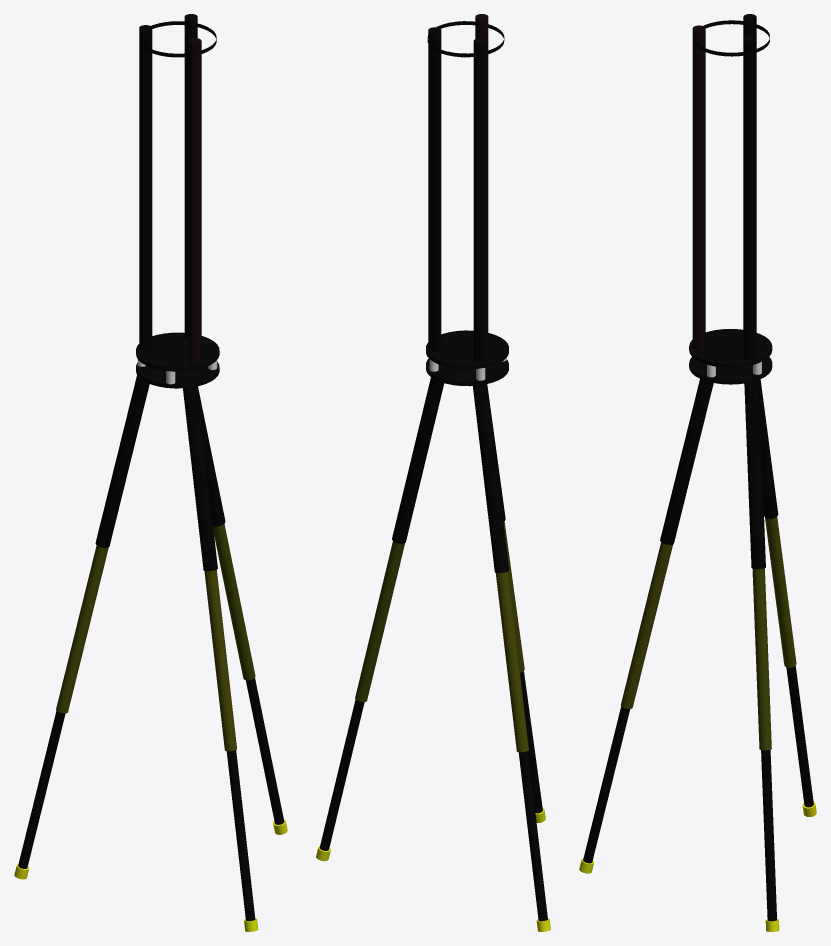
Rendered from rod.fbx.
The picture shows the model from 3 angles, left to right: view 1: azimuth 30°, elevation 25°; view 2: azimuth 150°, elevation 25°; view 3: azimuth 270°, elevation 25°; orthographic projection.
Visible parts, largest first — view 1: Cylinder.018, Cylinder.020, Cylinder.002, Cylinder.010, Cylinder.001, Cylinder.009, Cylinder.013, Cylinder.006, Cylinder.019, Cylinder, Cylinder.008, Cylinder.007 (+2 smaller); view 2: Cylinder.020, Cylinder.019, Cylinder.010, Cylinder.005, Cylinder.009, Cylinder.006, Cylinder.013, Cylinder.008, Cylinder.007, Cylinder.012, Cylinder.018, Cylinder (+2 smaller); view 3: Cylinder.018, Cylinder.019, Cylinder.005, Cylinder.002, Cylinder.006, Cylinder.001, Cylinder.013, Cylinder.009, Cylinder.007, Cylinder, Cylinder.008, Cylinder.012 (+2 smaller).
Part boxes in pixels (x1,y1,x2,y2): Cylinder.018: (188, 38, 201, 364); Cylinder.020: (139, 25, 152, 351); Cylinder.002: (183, 386, 217, 571); Cylinder.010: (95, 375, 149, 547); Cylinder.001: (204, 570, 236, 751); Cylinder.009: (56, 545, 108, 713); Cylinder.013: (136, 332, 219, 371); Cylinder.006: (213, 524, 255, 680); Cylinder.019: (184, 14, 197, 339); Cylinder: (226, 750, 255, 920); Cylinder.008: (18, 710, 65, 868); Cylinder.007: (246, 678, 284, 824); Cylinder.020: (473, 38, 486, 363); Cylinder.019: (428, 27, 441, 352); Cylinder.010: (473, 384, 508, 572); Cylinder.005: (392, 377, 444, 543); Cylinder.009: (495, 571, 528, 752); Cylinder.006: (355, 541, 404, 702); Cylinder.013: (426, 330, 508, 369); Cylinder.008: (518, 751, 547, 921); Cylinder.007: (319, 699, 364, 850); Cylinder.012: (426, 358, 508, 386); Cylinder.018: (475, 14, 488, 337); Cylinder: (520, 671, 542, 813); Cylinder.018: (692, 25, 705, 349); Cylinder.019: (743, 36, 756, 360); Cylinder.005: (744, 380, 765, 569); Cylinder.002: (660, 379, 713, 544); Cylinder.006: (752, 568, 771, 750); Cylinder.001: (621, 542, 672, 708); Cylinder.013: (689, 329, 772, 367); Cylinder.009: (765, 516, 796, 667); Cylinder.007: (761, 749, 776, 921); Cylinder: (583, 706, 630, 863); Cylinder.008: (786, 666, 813, 807); Cylinder.012: (689, 357, 772, 384).
Bounding box in the file's own units: 1462 × 4691 × 1196.
